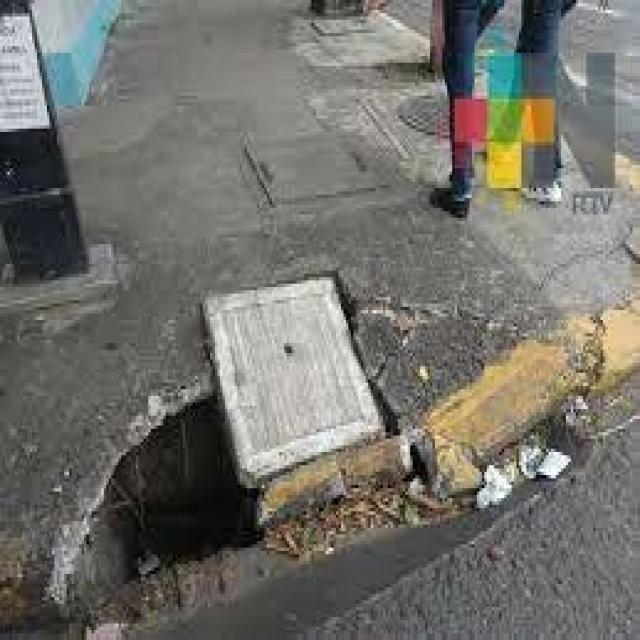Pothole: (39, 340, 272, 640)
